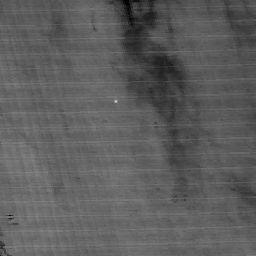Target: (111, 99, 119, 105)
